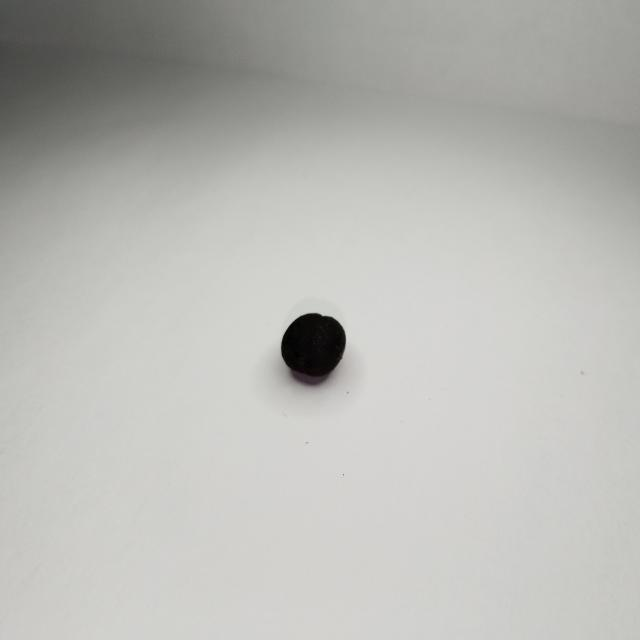Danado: (280, 312, 347, 383)
